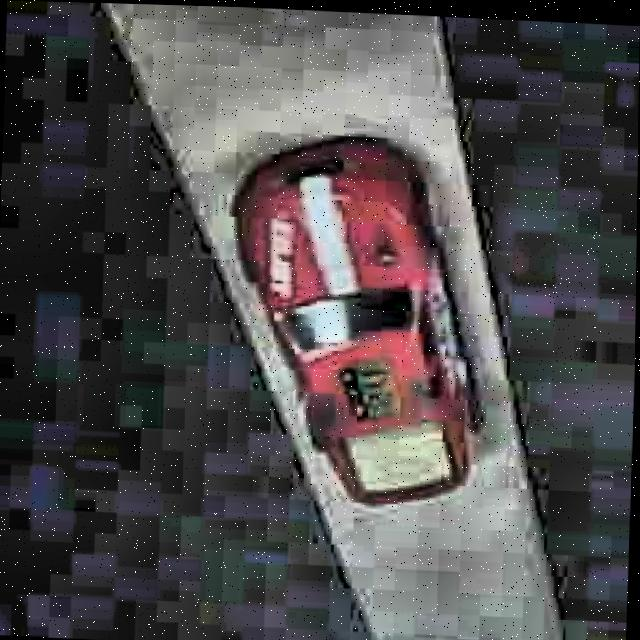car: (217, 123, 497, 515)
